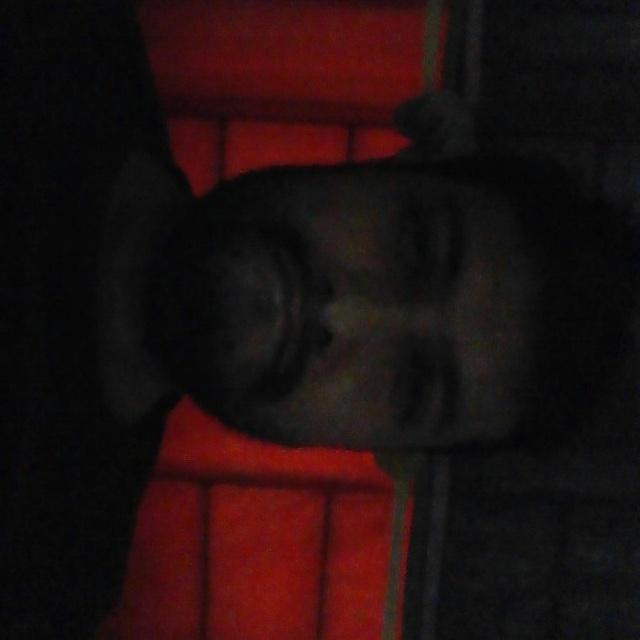Sad: (148, 123, 563, 481)
